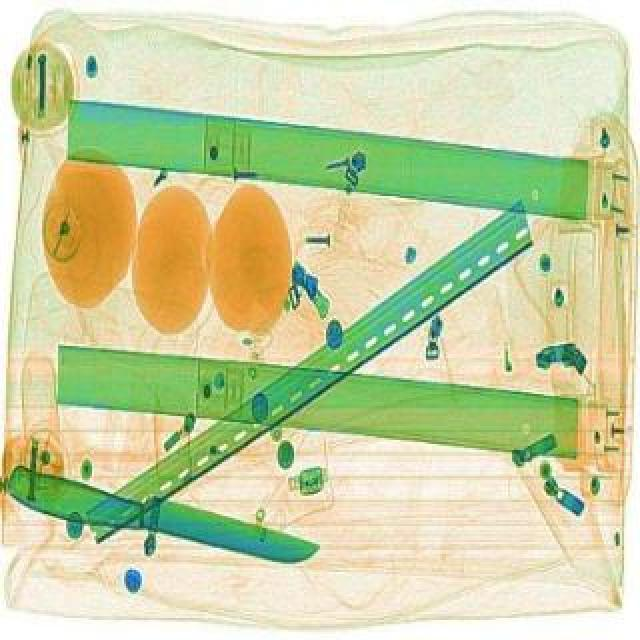knife: (2, 458, 322, 574)
